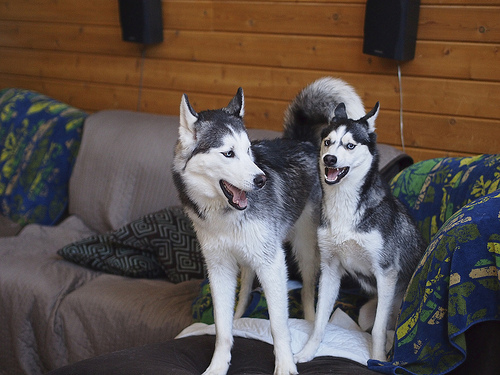dog: (173, 77, 363, 374), (291, 98, 429, 361)
